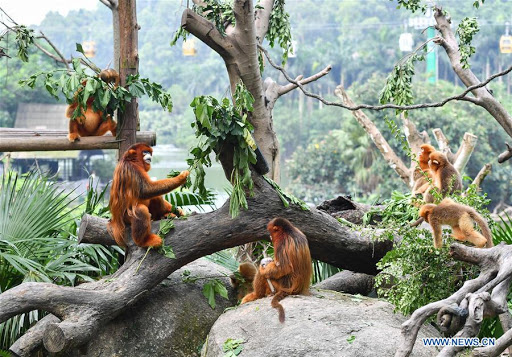GoldenSnub-Nosed: (100, 139, 187, 252), (248, 214, 318, 305), (418, 199, 493, 257), (69, 66, 121, 142), (407, 142, 439, 190), (430, 152, 462, 199)
